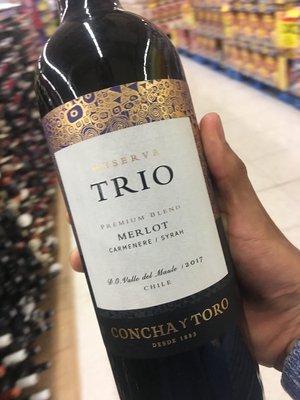trio merlot: (25, 16, 260, 396)
